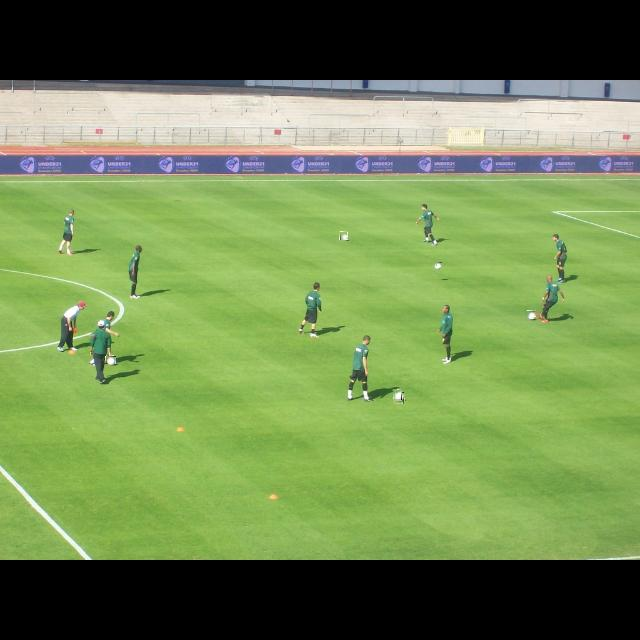Football: (394, 392, 404, 404), (106, 356, 116, 364), (340, 232, 348, 240), (396, 390, 402, 400), (526, 311, 536, 317), (436, 262, 442, 266)
